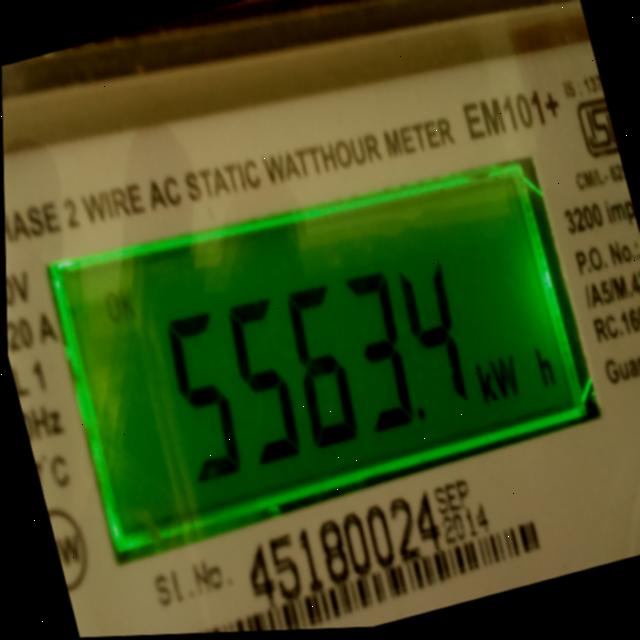.: (407, 395, 429, 431)
3: (327, 263, 422, 432)
4: (387, 253, 478, 419)
5: (147, 292, 253, 498), (210, 289, 310, 472)
6: (270, 264, 362, 464)
